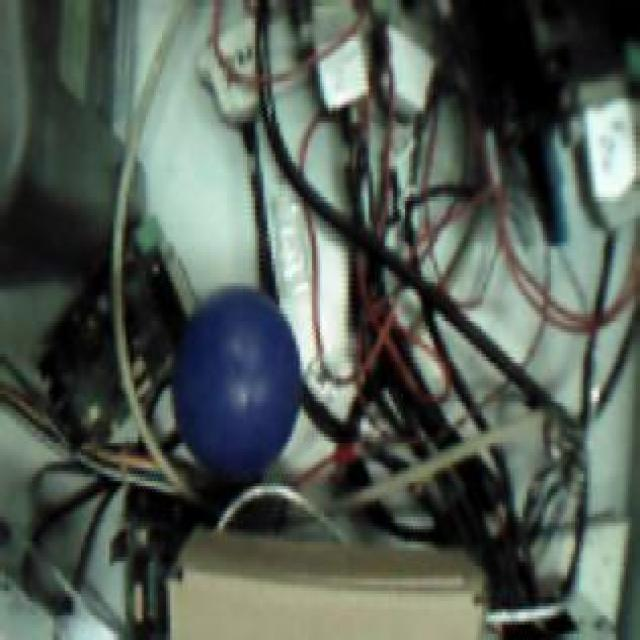BallPurple: (172, 285, 302, 475)
